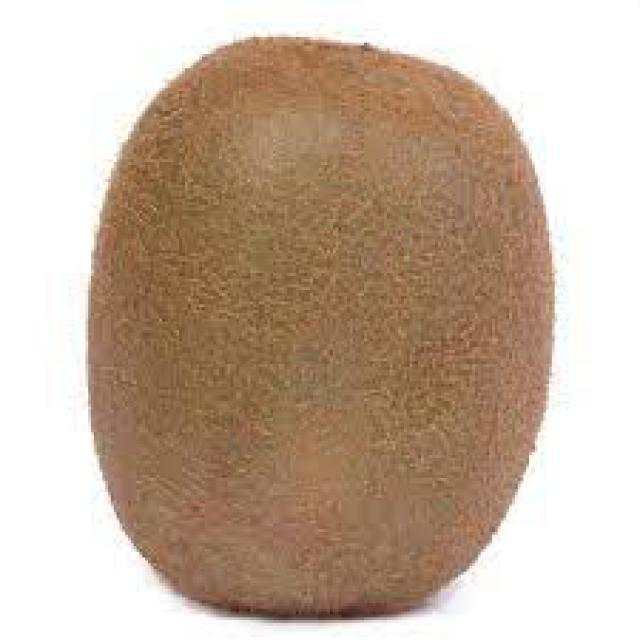kiwi: (83, 35, 550, 618)
